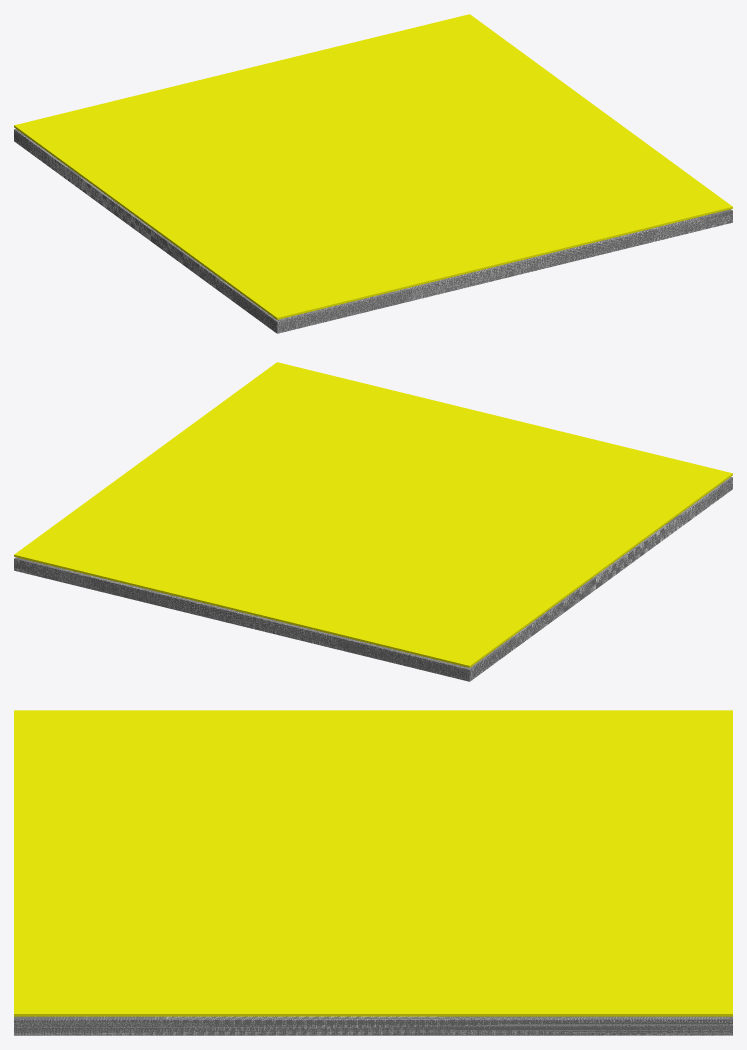
Rendered from Hộp đèn chibi 2 mặt LED viền 120 x120.obj.
3 views of the same model, one above another, from view 1: azimuth 30°, elevation 25°; view 2: azimuth 150°, elevation 25°; view 3: azimuth 270°, elevation 25° (orthographic). The views are drawn at different scales.
Visible parts, largest first — view 1: den_led_vien, khung_sat_do, be_mat_bien; view 2: den_led_vien, khung_sat_do, be_mat_bien; view 3: den_led_vien, khung_sat_do, be_mat_bien.
Part boxes in pixels (box(x1,y1,x2,y2)): den_led_vien: box(14, 14, 732, 319); khung_sat_do: box(14, 129, 732, 333); be_mat_bien: box(14, 130, 732, 333); den_led_vien: box(14, 362, 732, 667); khung_sat_do: box(14, 477, 732, 681); be_mat_bien: box(14, 478, 732, 681); den_led_vien: box(14, 710, 732, 1016); khung_sat_do: box(14, 1016, 732, 1035); be_mat_bien: box(14, 1016, 732, 1035).
Size of the model in its own units: 1.2 by 0.04 by 1.2.
